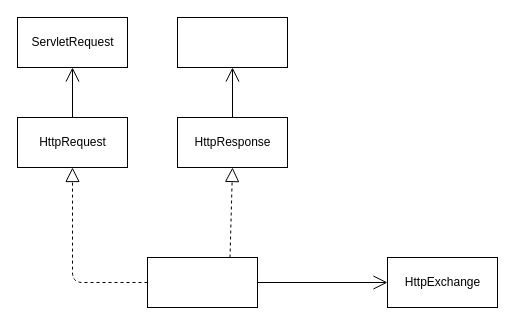
The diagram is 515 pixels wide and 325 high, and some of its shapes have lost their labels. The shapes that lost their labels are listed below. From the top down, each one's centre as x and y in pixels, then its label:
(x=232, y=42): ServleteResponse
(x=202, y=282): HttpAdapter
